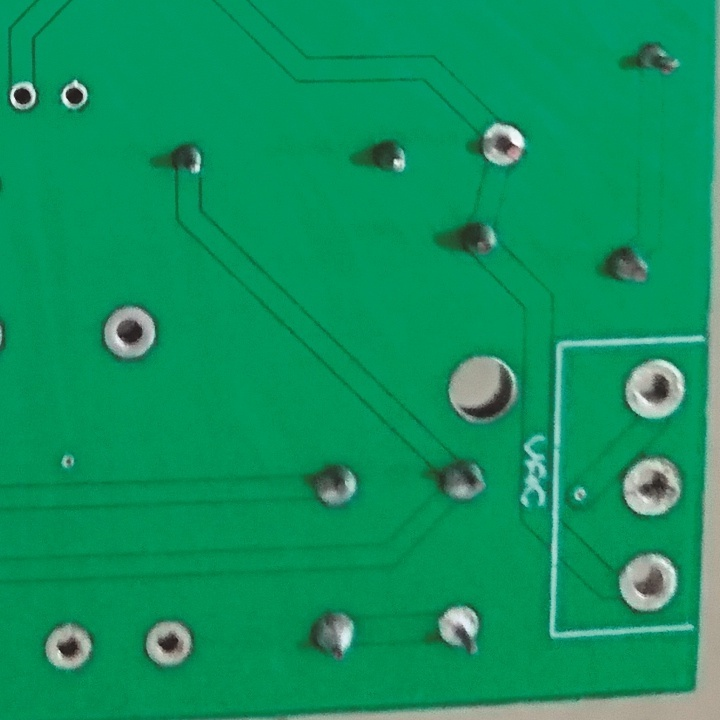F: (619, 355, 693, 426), (620, 453, 687, 526), (616, 550, 686, 619), (101, 300, 159, 366), (432, 598, 490, 660), (142, 618, 201, 676), (42, 617, 100, 675), (474, 120, 533, 174), (8, 80, 45, 118), (59, 76, 94, 113)
